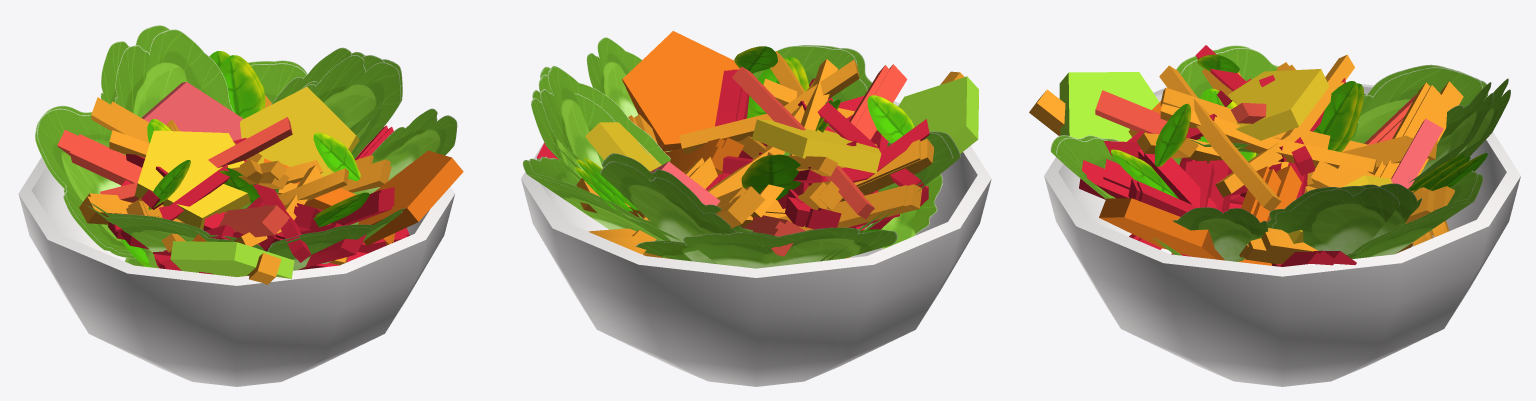
Rendered from salad bowls.fbx.
3 renders of one model, left to right at view 1: azimuth 30°, elevation 25°; view 2: azimuth 150°, elevation 25°; view 3: azimuth 270°, elevation 25°, orthographic. The views are drawn at different scales.
Visible parts, largest first — view 1: salad_lvls_high, bowl, salad_lvls_mid, salad_lvls_low; view 2: salad_lvls_high, bowl, salad_lvls_mid, salad_lvls_low; view 3: salad_lvls_high, bowl, salad_lvls_mid, salad_lvls_low.
Boxes of the visible parts, left/top/right/bottom form: salad_lvls_high: left=37, top=29, right=463, bottom=278; bowl: left=18, top=157, right=454, bottom=386; salad_lvls_mid: left=35, top=55, right=406, bottom=270; salad_lvls_low: left=57, top=25, right=384, bottom=284; salad_lvls_high: left=522, top=31, right=978, bottom=268; bowl: left=521, top=101, right=991, bottom=386; salad_lvls_mid: left=529, top=45, right=960, bottom=266; salad_lvls_low: left=531, top=71, right=964, bottom=264; salad_lvls_high: left=1056, top=45, right=1493, bottom=266; bowl: left=1044, top=82, right=1520, bottom=386; salad_lvls_mid: left=1050, top=45, right=1482, bottom=266; salad_lvls_low: left=1029, top=78, right=1510, bottom=265.
Bounding box in the file's own units: 0.69 × 0.453 × 0.7258.
